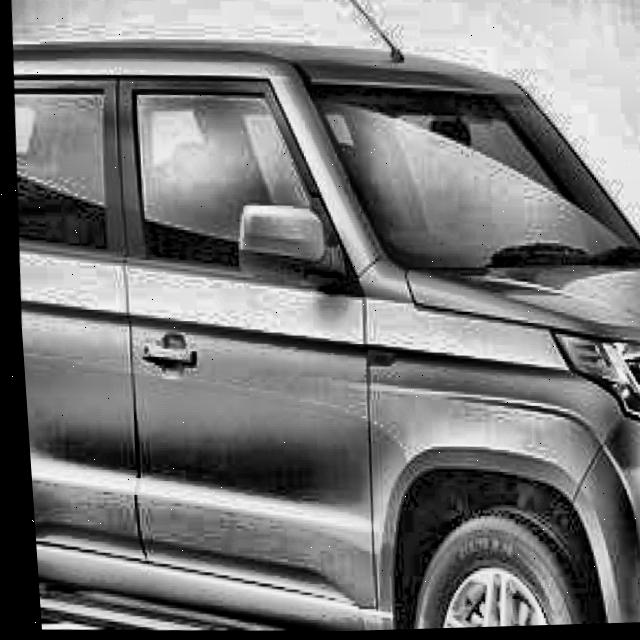light_vehicle: (2, 21, 640, 640)
